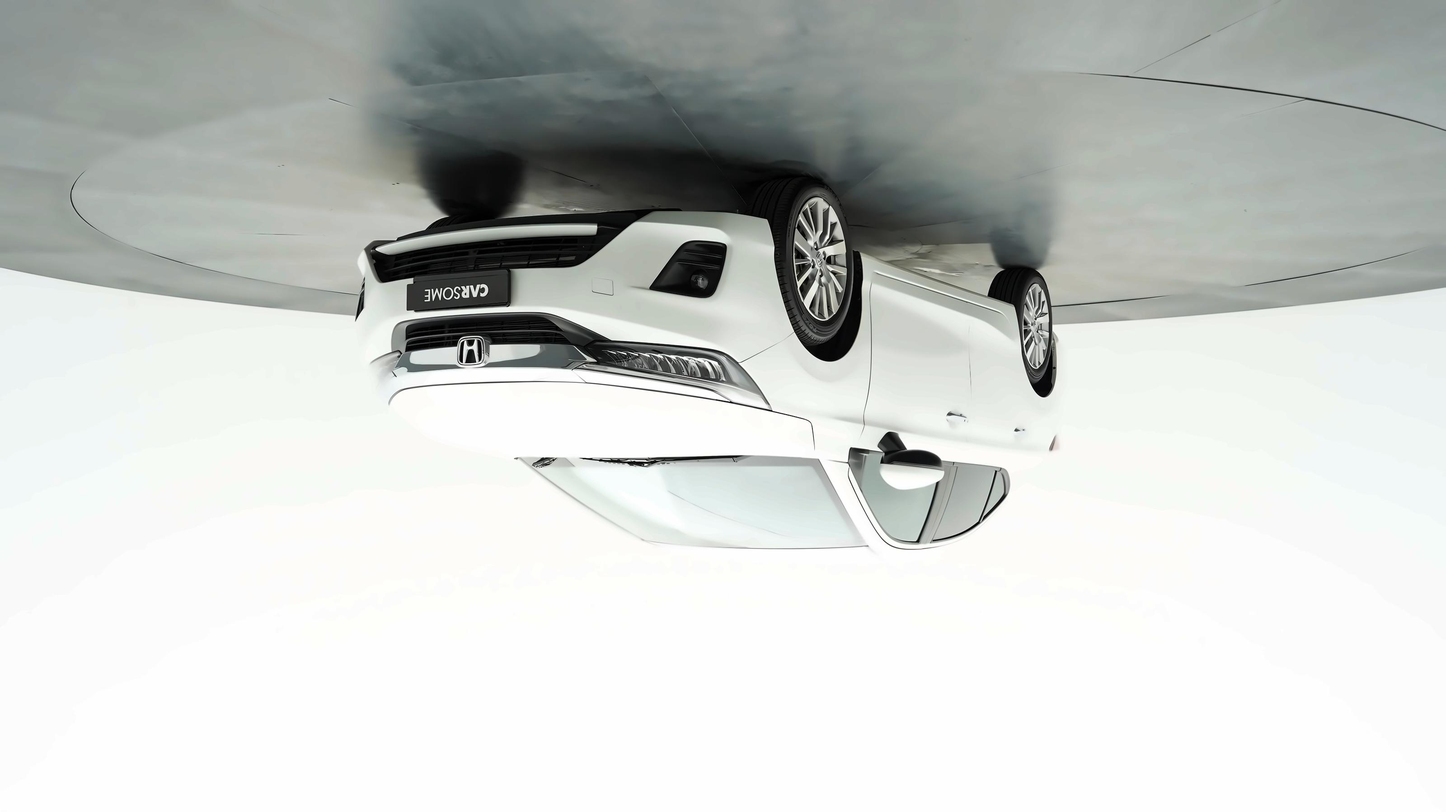Car hood: (390, 378, 821, 463)
Driver-s door - -F-R-: (847, 225, 980, 566)
Fender - -F-R-: (721, 243, 875, 451)
Front bumper: (341, 201, 794, 377)
Headlight - -L-: (363, 350, 401, 404)
Headlight - -R-: (586, 340, 772, 416)
Passenger-s door - -R-R-: (920, 226, 1035, 575), (874, 427, 945, 496)
Side bumper - -R-: (845, 238, 1031, 346)
